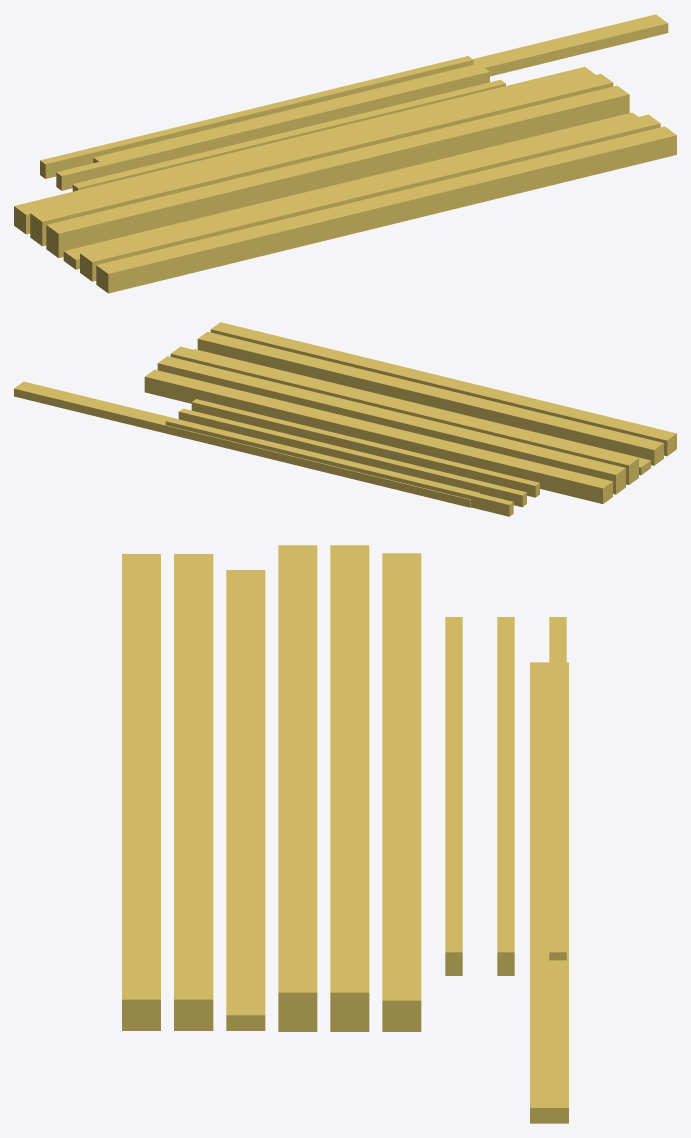
File: bed5.glb
The picture shows the model from 3 angles, top to bottom: view 1: azimuth 30°, elevation 25°; view 2: azimuth 150°, elevation 25°; view 3: azimuth 270°, elevation 25°; orthographic projection. The views are drawn at different scales.
Visible parts, largest first — view 1: girder1.2, beam1.5, girder1.3, beam2.5, beam1.7, girder2.1, girder1.1, guide1.2, guide1.3, girder1.005, guide2.2, beam1.4 (+3 smaller); view 2: girder1.3, beam1.7, beam2.5, girder1.2, beam1.5, girder2.1, guide2.2, guide1.2, guide1.3, beam1.6, girder1.4, beam2.4 (+5 smaller); view 3: girder1.3, girder1.005, beam1.5, beam2.5, beam1.7, girder1.2, girder2.1, guide1.2, guide2.2, guide1.3.
Part boxes in pixels (<box>): girder1.2: <box>96,126,676,283</box>; beam1.5: <box>46,85,629,238</box>; girder1.3: <box>80,114,660,271</box>; beam2.5: <box>30,74,613,226</box>; beam1.7: <box>14,67,595,219</box>; girder2.1: <box>93,14,668,162</box>; girder1.1: <box>96,145,676,293</box>; guide1.2: <box>56,68,489,183</box>; guide1.3: <box>40,56,473,171</box>; girder1.005: <box>63,112,637,269</box>; guide2.2: <box>72,79,505,191</box>; beam1.4: <box>46,99,629,243</box>; girder1.3: <box>197,331,663,457</box>; beam1.7: <box>144,369,612,492</box>; beam2.5: <box>157,356,625,478</box>; girder1.2: <box>210,322,676,448</box>; beam1.5: <box>170,346,638,469</box>; girder2.1: <box>14,381,480,507</box>; guide2.2: <box>191,399,539,491</box>; guide1.2: <box>178,408,526,501</box>; guide1.3: <box>165,418,513,510</box>; beam1.6: <box>144,380,612,496</box>; girder1.4: <box>197,347,663,465</box>; beam2.4: <box>157,367,625,482</box>; girder1.3: <box>174,554,213,1015</box>; girder1.005: <box>226,570,265,1030</box>; beam1.5: <box>278,545,317,1000</box>; beam2.5: <box>330,545,369,1000</box>; beam1.7: <box>382,553,421,1008</box>; girder1.2: <box>122,554,160,1015</box>; girder2.1: <box>530,662,568,1123</box>; guide1.2: <box>497,617,514,964</box>; guide2.2: <box>445,617,462,964</box>; guide1.3: <box>549,617,566,960</box>.
Bounding box in the file's own units: 2.94 × 0.1 × 1.03.
